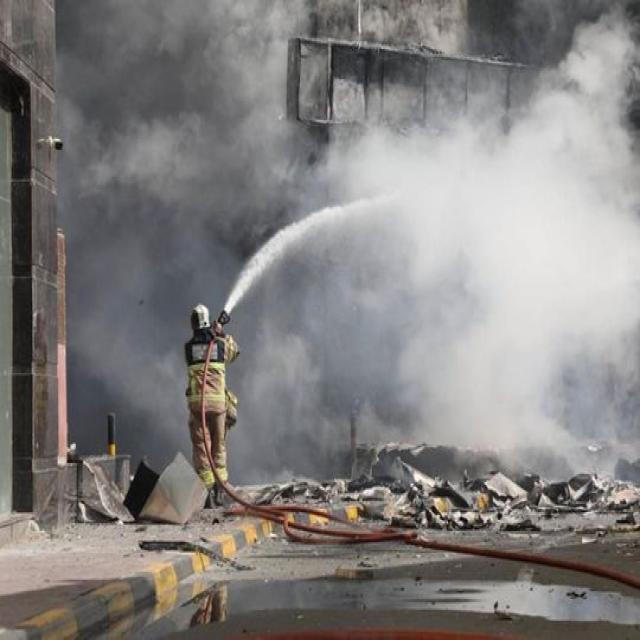Smoke: (52, 0, 640, 493)
